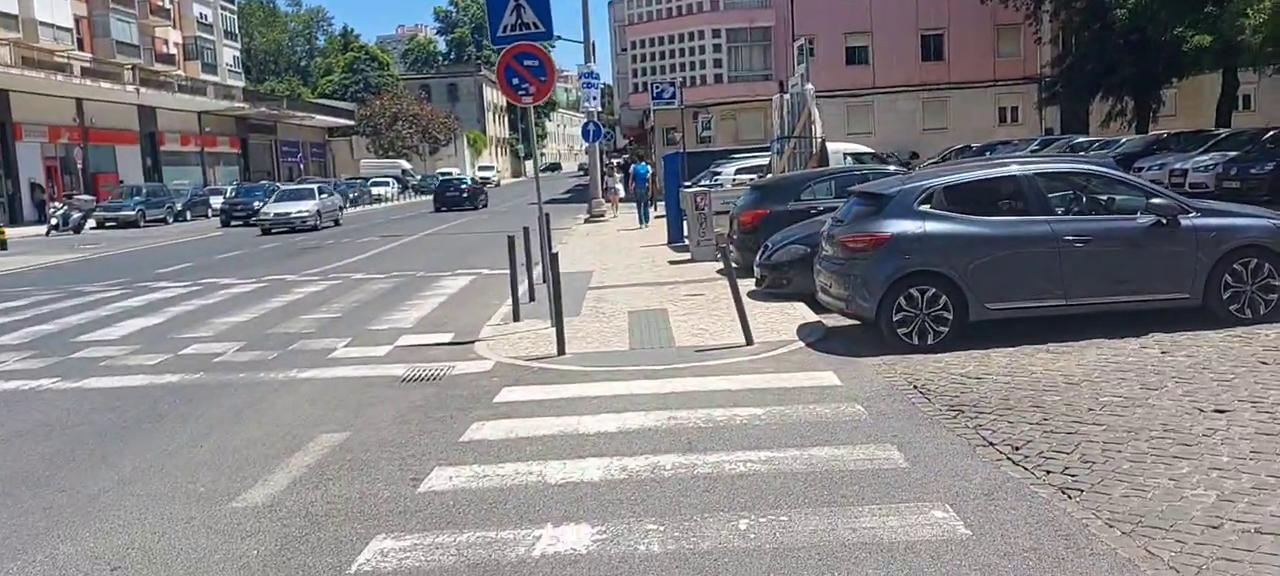estacionamento proibido: (487, 37, 564, 115)
